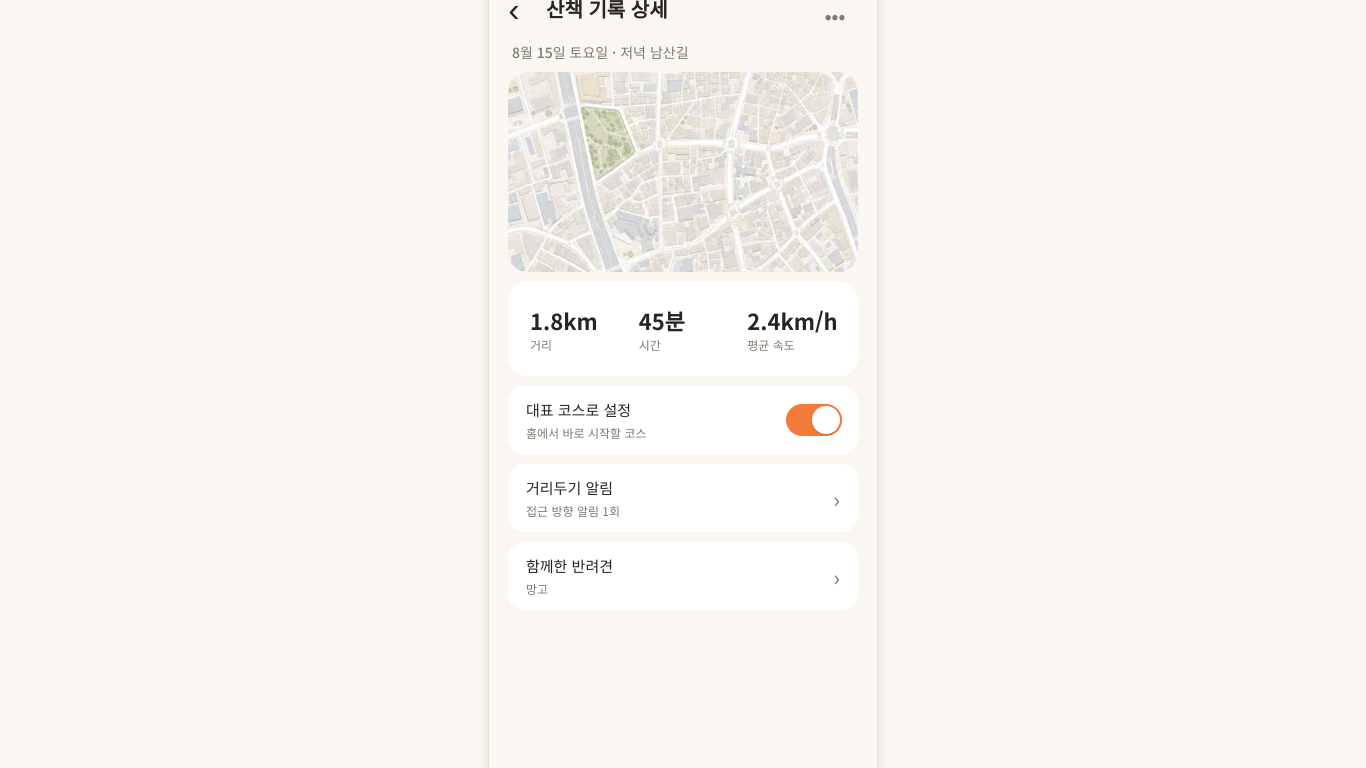
Test: App location permission route › opens record detail information instead of leaving dead rows
Click the button "거리두기 알림 접근 방향 알림 1회 ›" at (570, 488), box [508,464,858,532]
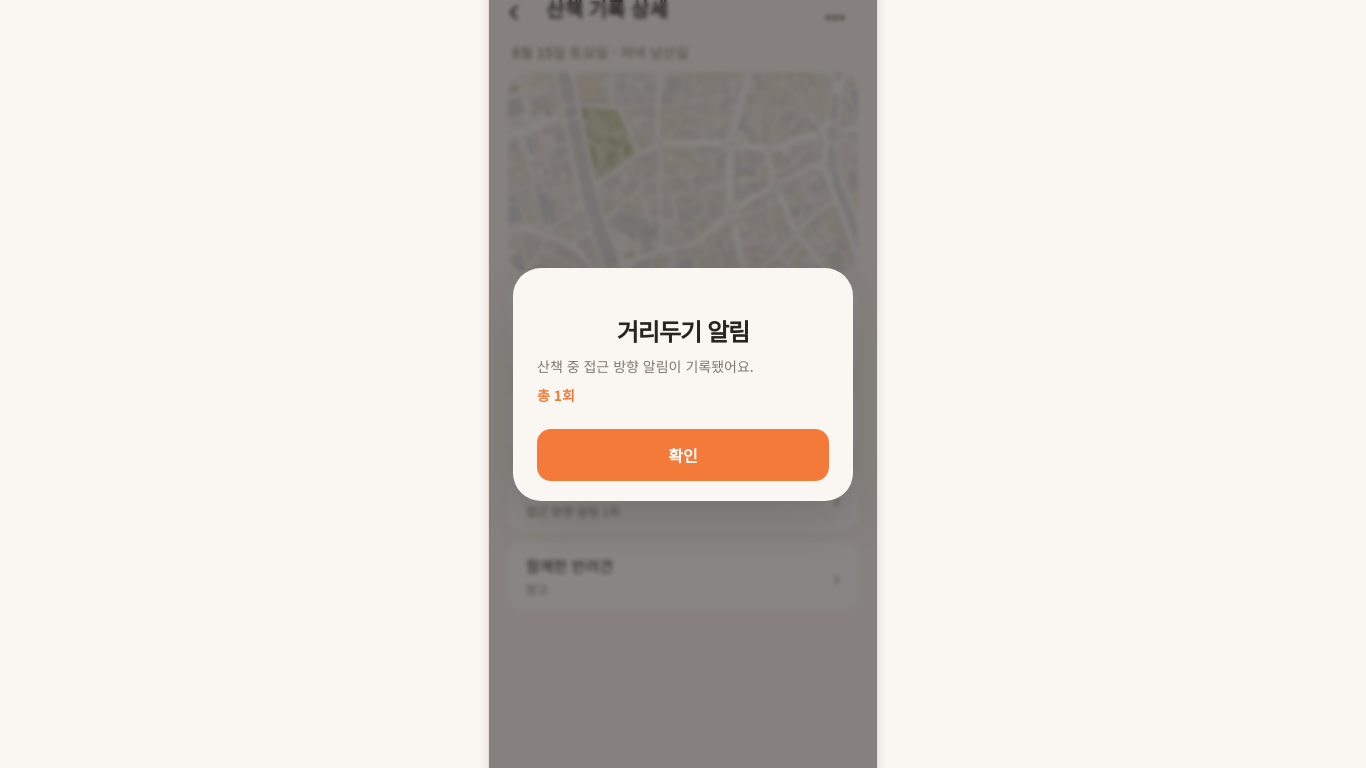
expect the dialog named "거리두기 알림 상세" is shown: met, box [513,268,853,500]
Click the button "확인" at (683, 454), box [537,428,829,480]
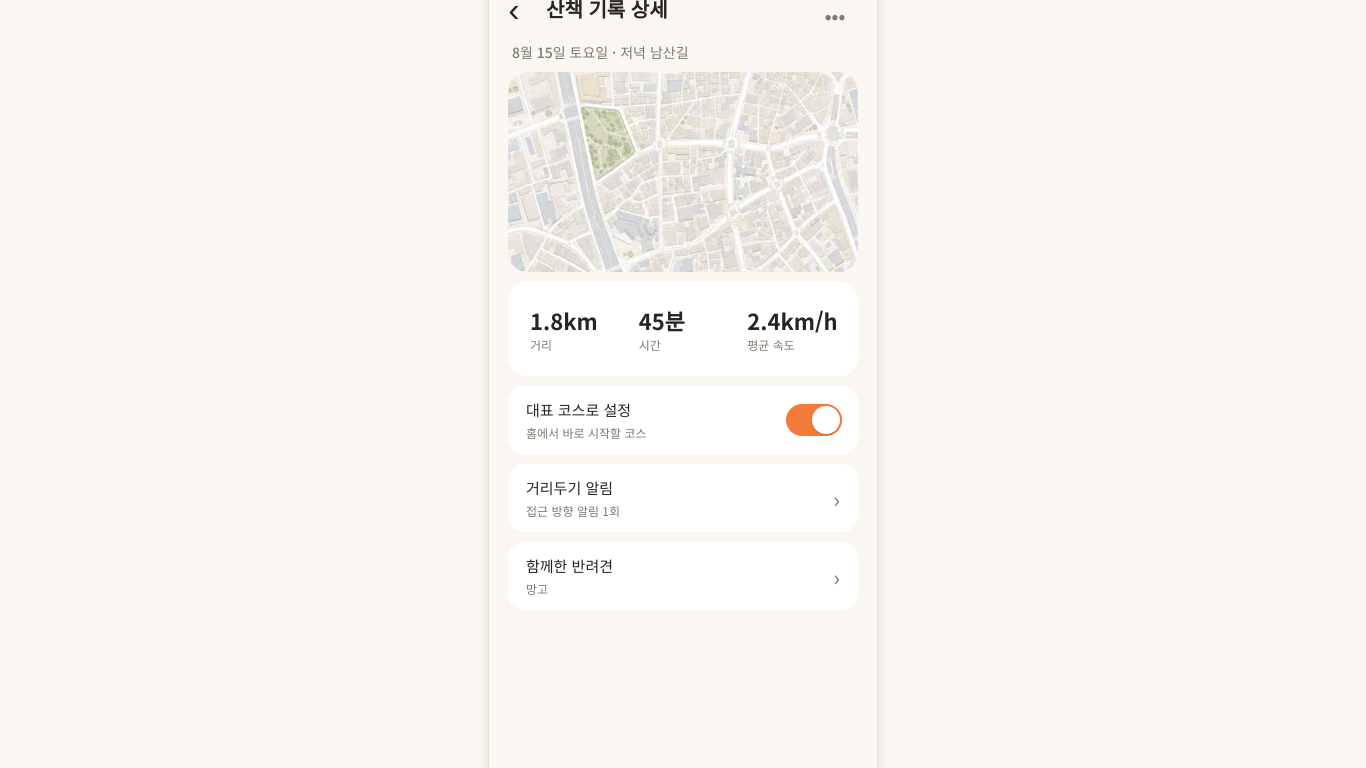
Click the button "함께한 반려견 망고 ›" at (570, 566), box [508,542,858,610]
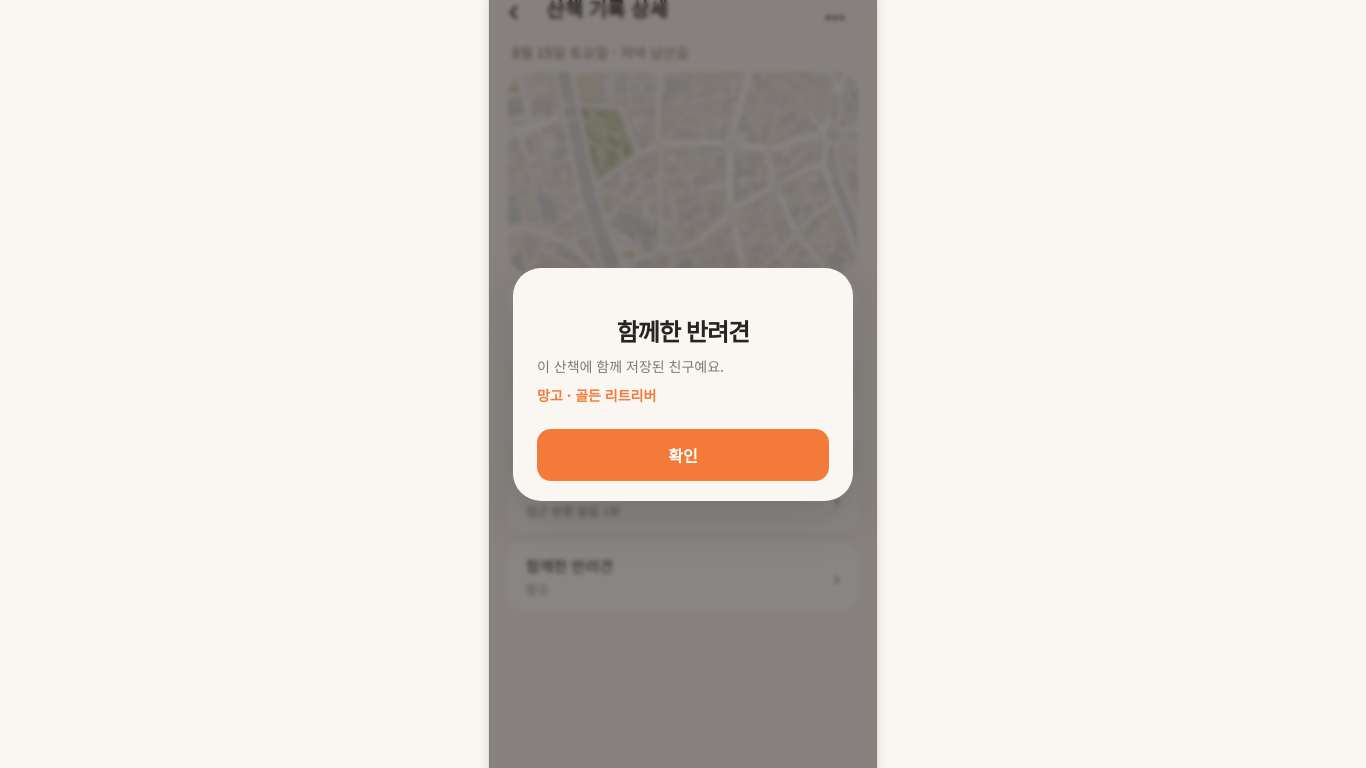
expect the dialog named "함께한 반려견 상세" is shown: met, box [513,268,853,500]
